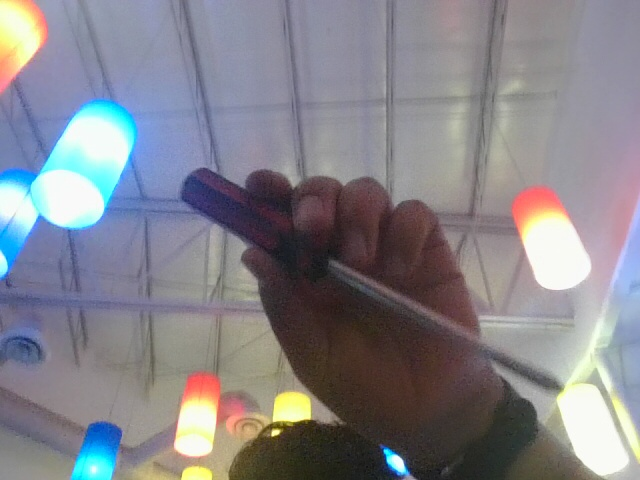destornillador: (181, 166, 572, 394)
